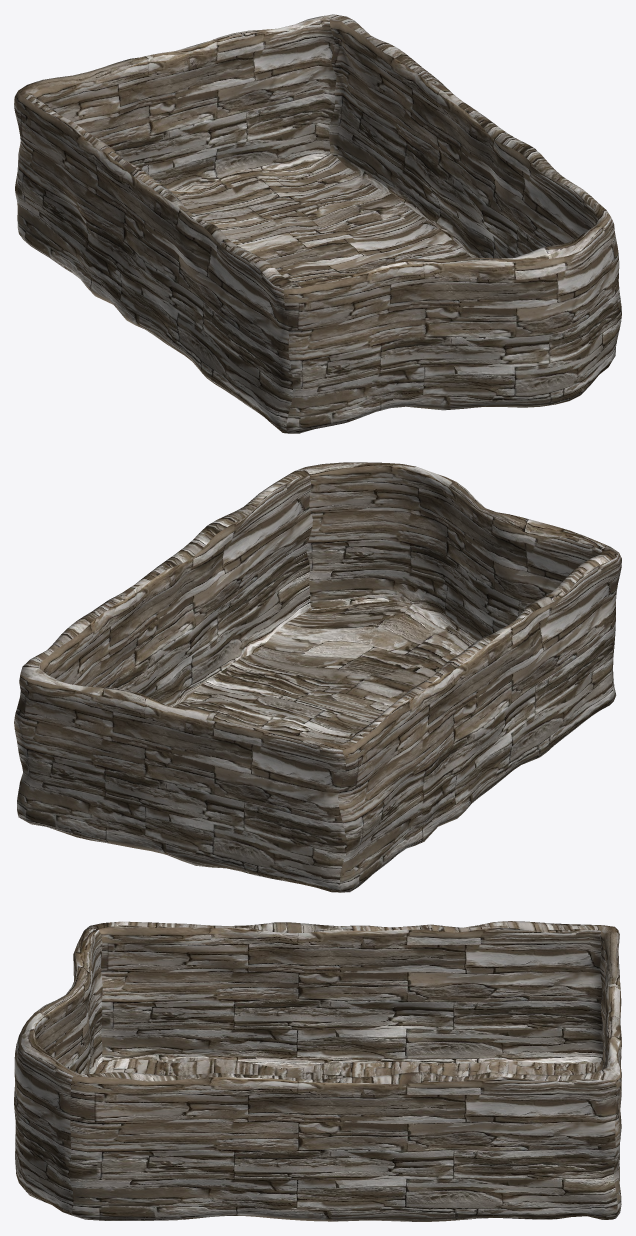
The model's file is mounds0.fbx.
3 views of the same model, one above another, from view 1: azimuth 30°, elevation 25°; view 2: azimuth 150°, elevation 25°; view 3: azimuth 270°, elevation 25° (orthographic). The views are drawn at different scales.
Parts seen in each view (by area): view 1: tomb; view 2: tomb; view 3: tomb.
Boxes of the visible parts, x1,y1,x2,y2 form: tomb: [14, 14, 621, 433]; tomb: [14, 462, 621, 892]; tomb: [14, 921, 621, 1221].
Size of the model in its own units: 3421 by 1540 by 5490.
Materials: 1 (1 with a texture image).
